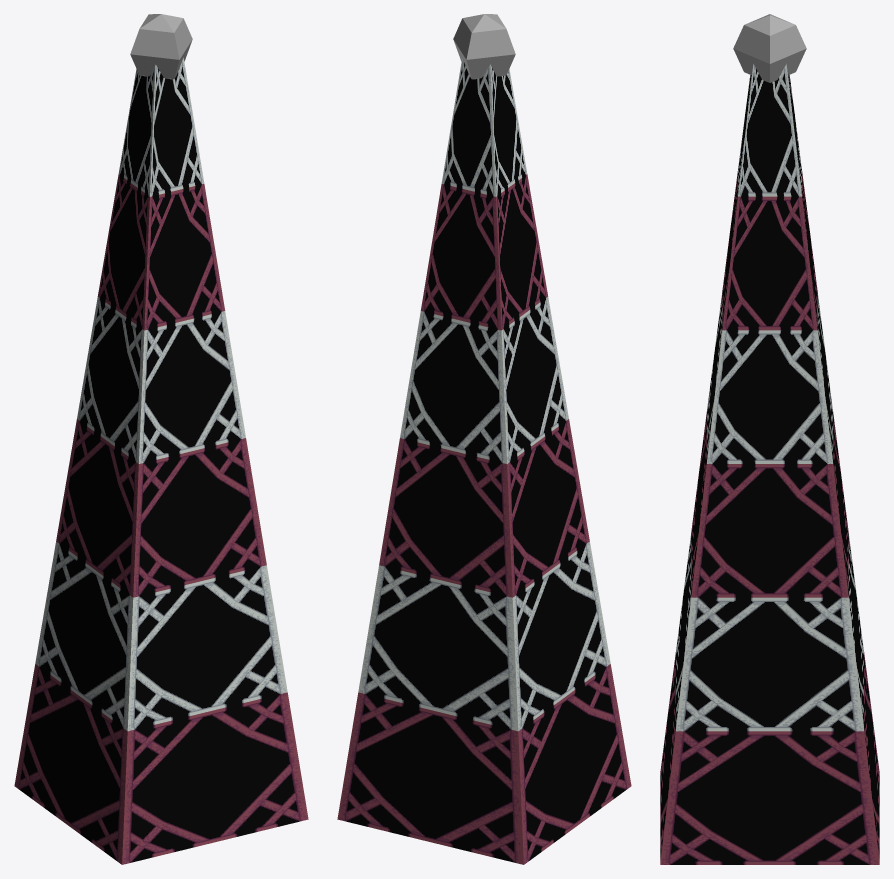
File: radiotower.fbx
3 views of the same model, side by side, from view 1: azimuth 30°, elevation 25°; view 2: azimuth 150°, elevation 25°; view 3: azimuth 270°, elevation 25° (orthographic).
Visible parts, largest first — view 1: radiotower; view 2: radiotower; view 3: radiotower.
Part boxes in pixels (x1,y1,x2,y2): radiotower: [14, 14, 308, 864]; radiotower: [337, 14, 631, 864]; radiotower: [660, 14, 879, 864].
Bounding box in the file's own units: 1.56 × 6.32 × 1.56.
3 materials, 2 textured.
